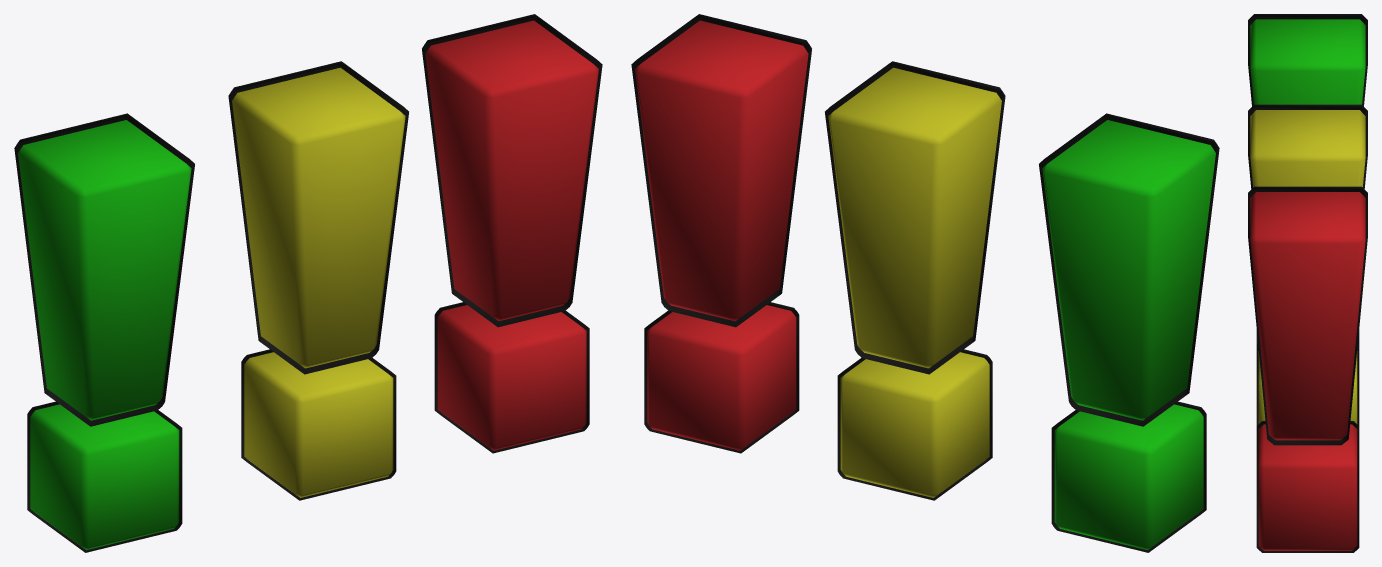
The model's file is Markers.fbx.
3 renders of one model, left to right at view 1: azimuth 30°, elevation 25°; view 2: azimuth 150°, elevation 25°; view 3: azimuth 270°, elevation 25°, orthographic. The views are drawn at different scales.
Parts seen in each view (by area): view 1: MarkerGreen, MarkerRed, MarkerYellow; view 2: MarkerGreen, MarkerRed, MarkerYellow; view 3: MarkerRed, MarkerYellow, MarkerGreen.
Boxes of the visible parts, x1,y1,x2,y2 form: MarkerGreen: (14,113,194,552); MarkerRed: (422,14,602,453); MarkerYellow: (228,61,408,500); MarkerGreen: (1039,113,1219,552); MarkerRed: (631,14,811,453); MarkerYellow: (825,61,1005,500); MarkerRed: (1248,186,1367,552); MarkerYellow: (1248,104,1367,425); MarkerGreen: (1248,14,1367,343).
Bounding box in the file's own units: 150 × 102 × 34.01.
